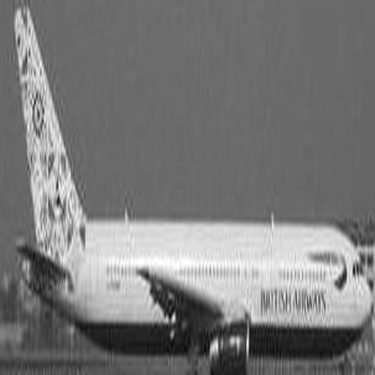airplane: (1, 4, 370, 371)
